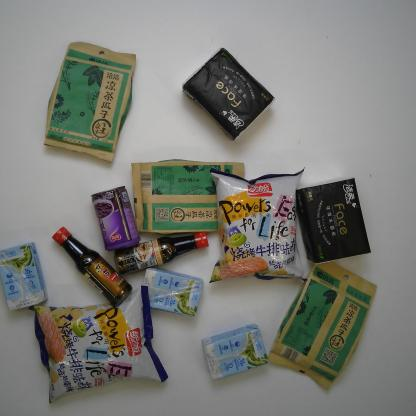Canned Food: (91, 185, 141, 252)
Dried Food: (267, 261, 379, 394), (40, 40, 138, 163), (130, 158, 245, 238)
Milk: (200, 321, 268, 381), (0, 241, 48, 311), (142, 266, 205, 319)
Puffed Food: (27, 282, 170, 405), (207, 166, 307, 284)
Seasoner: (50, 226, 134, 307), (112, 232, 210, 276)
Tissue: (182, 46, 276, 143), (296, 176, 372, 267)
